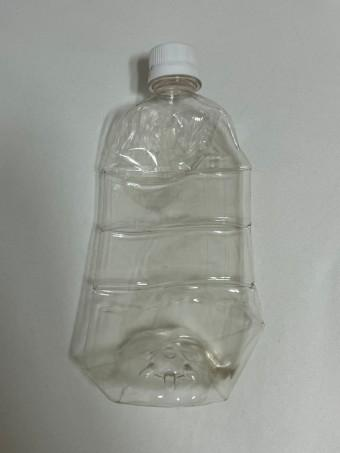plastic_bottle: (87, 41, 267, 420)
